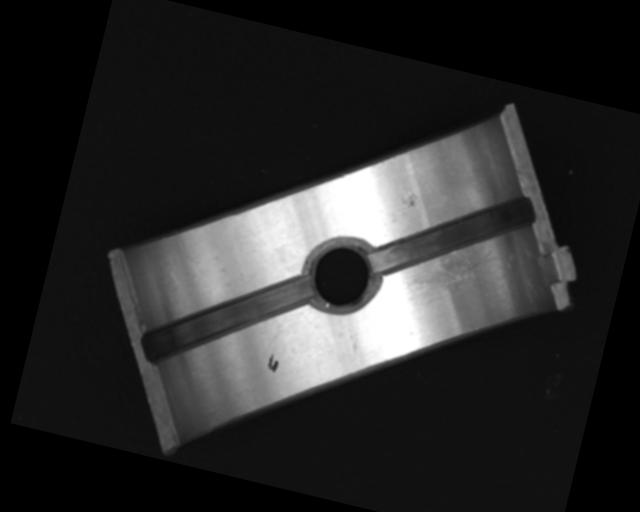blot: (265, 352, 281, 373)
bruise: (399, 188, 420, 210)
gap: (138, 243, 313, 394), (368, 164, 539, 304)
hole: (300, 230, 385, 320)
nick: (338, 327, 370, 371)
scratch: (403, 228, 500, 311)
